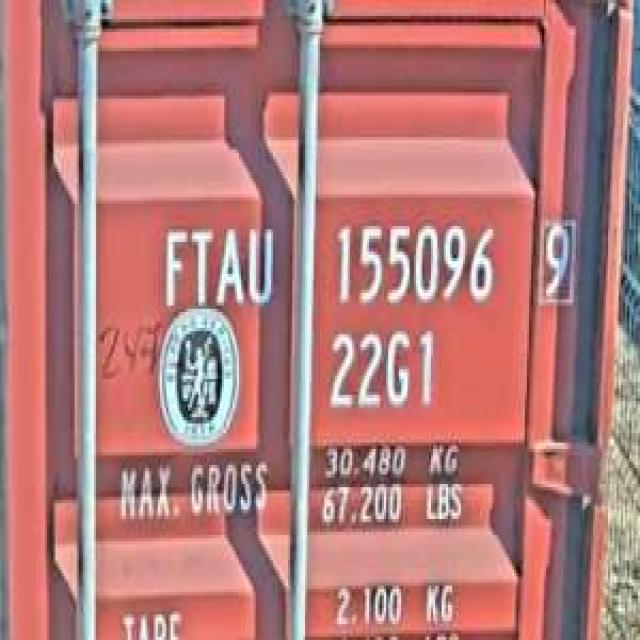dv: (536, 210, 578, 309)
owner: (156, 217, 277, 312)
serial: (326, 213, 502, 312)
size: (322, 322, 440, 420)
